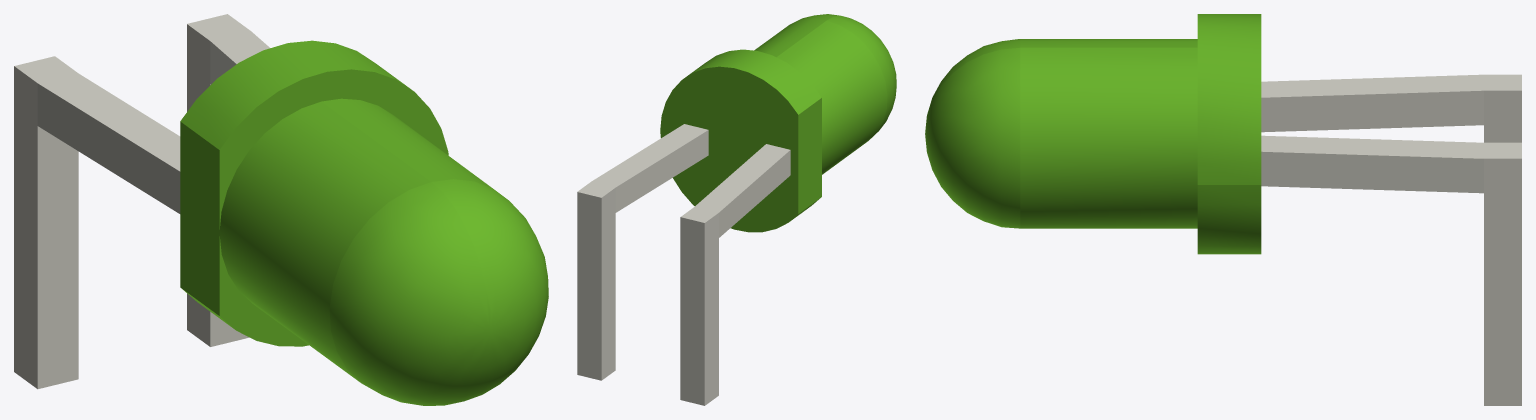
Rendered from kc-led_d3.0mm_horizontal_o3.81mm_z2.0mm.glb.
3 views of the same model, side by side, from view 1: azimuth 30°, elevation 25°; view 2: azimuth 150°, elevation 25°; view 3: azimuth 270°, elevation 25° (orthographic). The views are drawn at different scales.
Visible parts, largest first — view 1: 0.16666666666666666_0.4166666666666667_0_0, 0.6666666666666666_0.6666666666666666_0.5833333333333334_0.8; view 2: 0.16666666666666666_0.4166666666666667_0_0, 0.6666666666666666_0.6666666666666666_0.5833333333333334_0.8; view 3: 0.16666666666666666_0.4166666666666667_0_0, 0.6666666666666666_0.6666666666666666_0.5833333333333334_0.8.
Boxes of the visible parts, bbox=[...] form: 0.16666666666666666_0.4166666666666667_0_0: bbox=[180, 40, 548, 405]; 0.6666666666666666_0.6666666666666666_0.5833333333333334_0.8: bbox=[14, 14, 270, 389]; 0.16666666666666666_0.4166666666666667_0_0: bbox=[660, 14, 896, 232]; 0.6666666666666666_0.6666666666666666_0.5833333333333334_0.8: bbox=[577, 124, 790, 405]; 0.16666666666666666_0.4166666666666667_0_0: bbox=[925, 14, 1261, 254]; 0.6666666666666666_0.6666666666666666_0.5833333333333334_0.8: bbox=[1261, 74, 1521, 405].
Bounding box in the file's own units: 0.347 × 0.5898 × 0.941.
